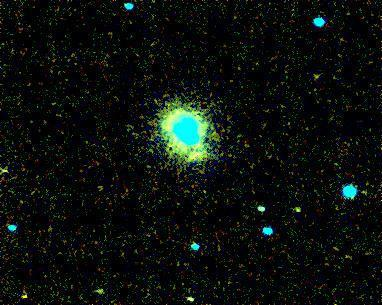star: (10, 281, 40, 305)
